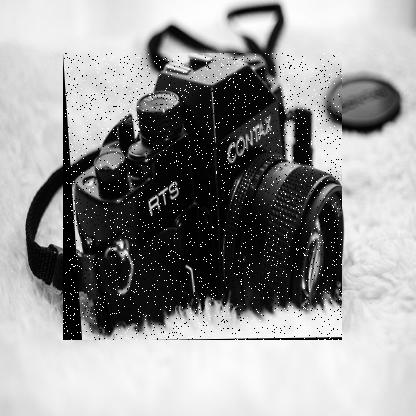Camera: (64, 54, 344, 342)
